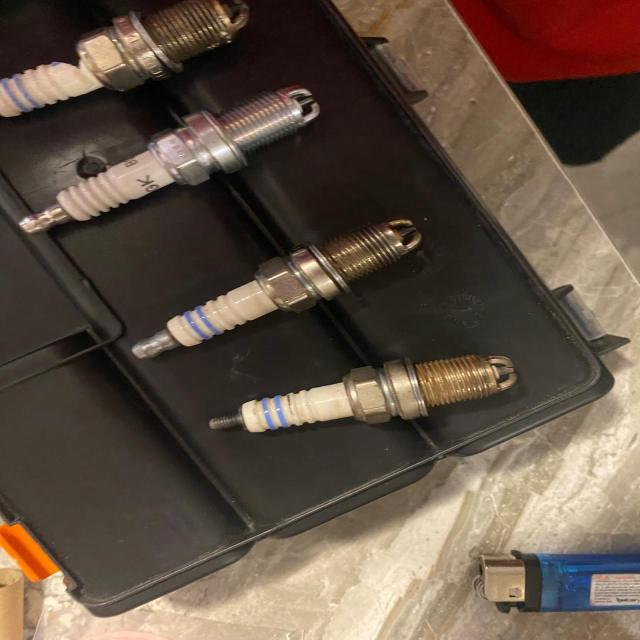spark-plug: (12, 80, 333, 243), (123, 206, 436, 362), (200, 344, 523, 435)
